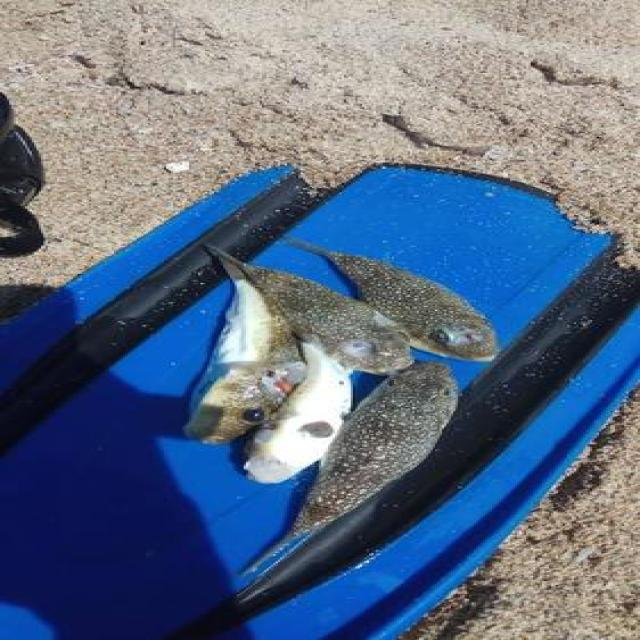Balik: (246, 363, 457, 572), (287, 239, 498, 360), (212, 248, 412, 373), (185, 264, 305, 444), (244, 342, 353, 482)
